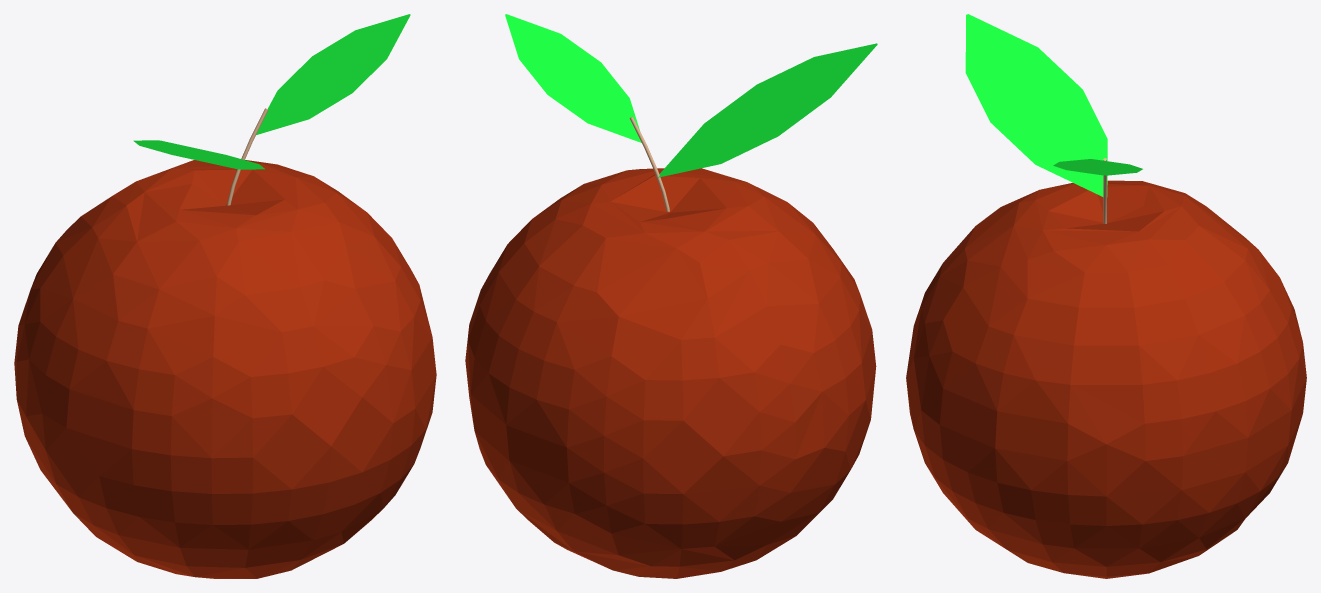
The model's file is Orange.obj.
The picture shows the model from 3 angles, left to right: view 1: azimuth 30°, elevation 25°; view 2: azimuth 150°, elevation 25°; view 3: azimuth 270°, elevation 25°; orthographic projection. The views are drawn at different scales.
Parts seen in each view (by area): view 1: Sphere001, Plane003, Plane002; view 2: Sphere001, Plane002, Plane003; view 3: Sphere001, Plane002, Plane003.
Part boxes in pixels (x1,y1,x2,y2): Sphere001: [14, 160, 436, 578]; Plane003: [256, 14, 410, 134]; Plane002: [133, 140, 264, 169]; Sphere001: [465, 168, 876, 578]; Plane002: [658, 43, 877, 177]; Plane003: [505, 14, 641, 142]; Sphere001: [906, 180, 1306, 578]; Plane002: [965, 14, 1107, 196]; Plane003: [1053, 159, 1142, 175].
Bounding box in the file's own units: 458 × 612 × 459.
